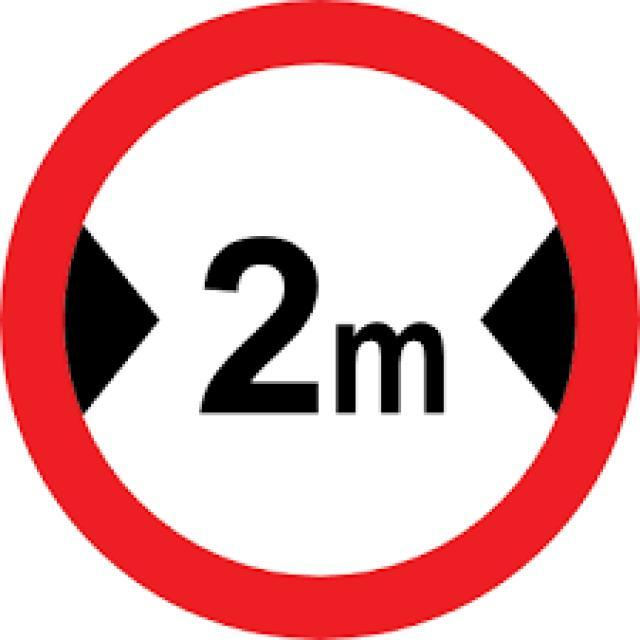width limit: (19, 21, 621, 620)
